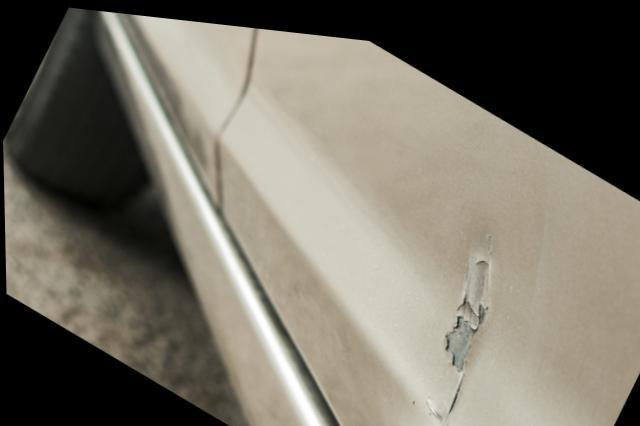scratch: (413, 222, 494, 426)
